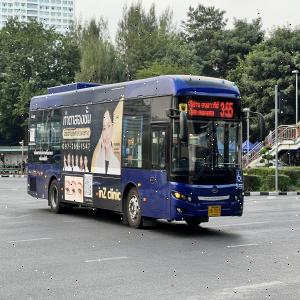Bus Line Number: (220, 99, 235, 119)
Bus Side Number: (234, 183, 244, 190), (30, 113, 37, 120)
Destination Sign: (188, 97, 220, 120)
TSB-Bus: (26, 75, 245, 229)
